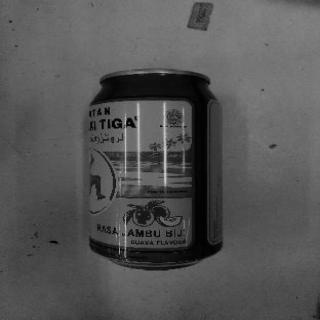alumunium_can: (88, 68, 224, 272)
